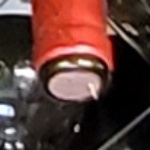bottle: (25, 37, 127, 119)
